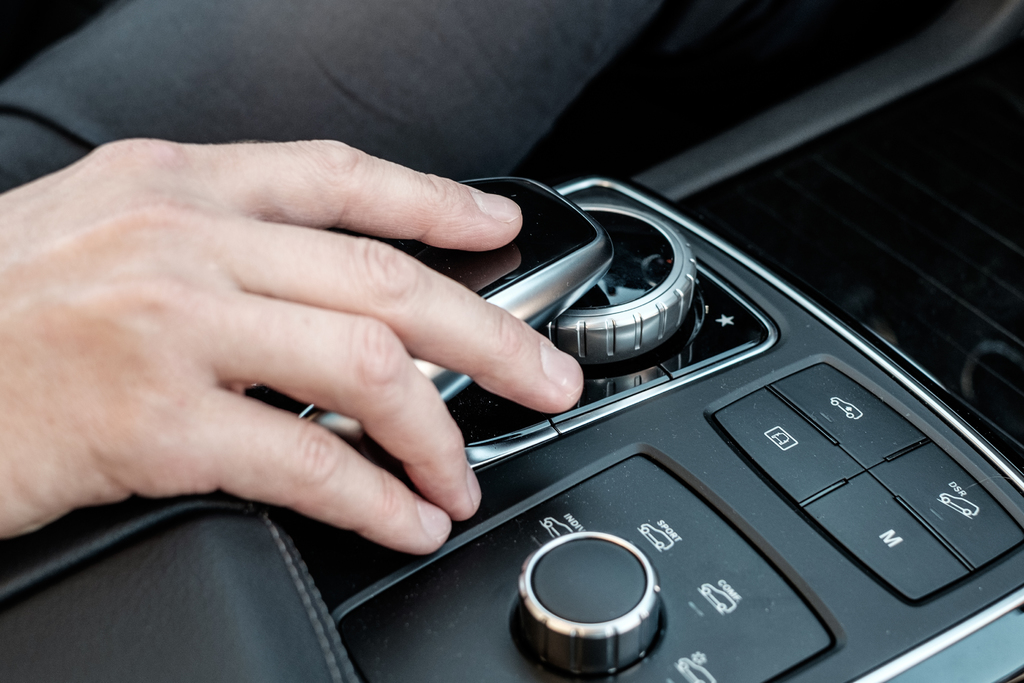Car: (0, 3, 1023, 682)
